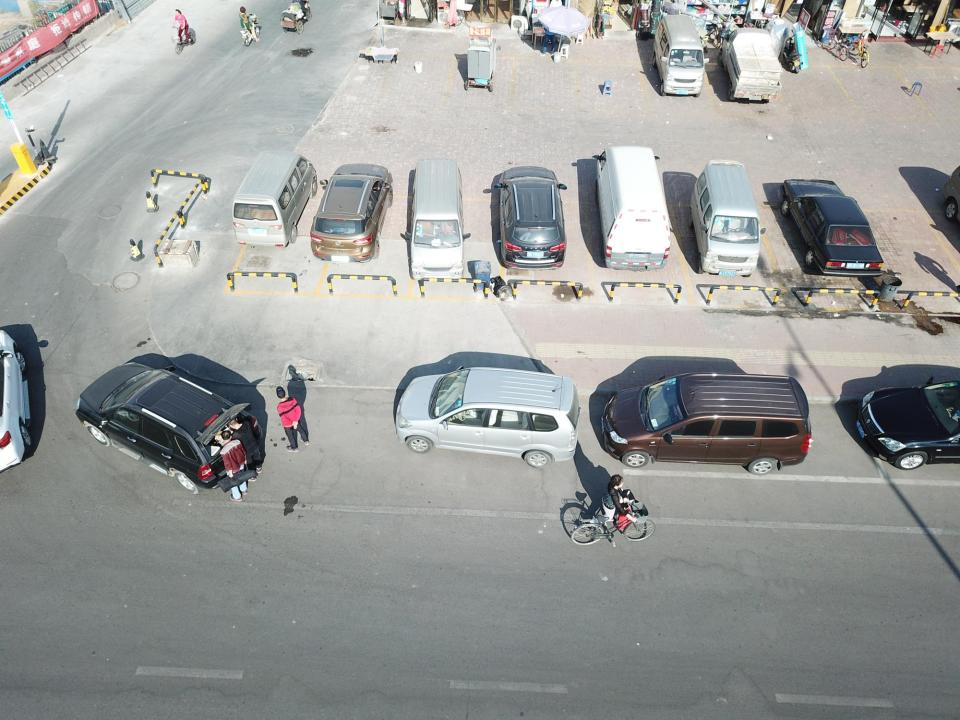car: (73, 362, 264, 496), (600, 371, 811, 474), (780, 178, 884, 276), (856, 374, 960, 470), (309, 162, 392, 262), (490, 166, 568, 269)
truck: (719, 28, 782, 102)
van: (395, 365, 580, 468), (591, 146, 672, 272), (688, 158, 766, 278), (232, 148, 319, 248), (404, 158, 471, 281), (652, 15, 704, 96)
